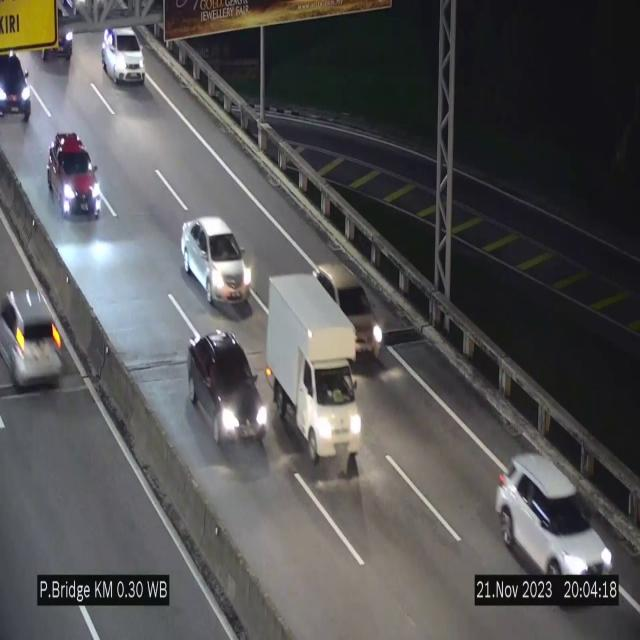Car: (496, 451, 614, 575), (186, 320, 268, 462), (0, 273, 71, 387), (312, 262, 385, 358), (181, 216, 251, 312), (47, 132, 101, 218), (0, 34, 42, 133), (102, 27, 145, 85)
Truck: (268, 275, 362, 467)
